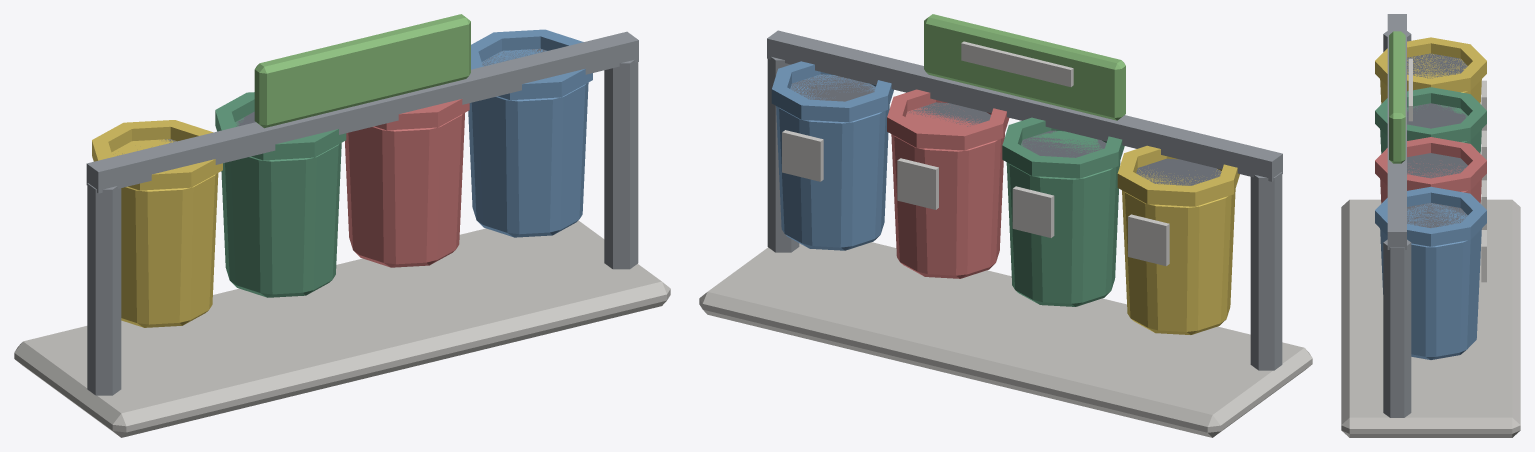
File: mobiliario__lixeira_seletiva.glb
The picture shows the model from 3 angles, left to right: view 1: azimuth 30°, elevation 25°; view 2: azimuth 150°, elevation 25°; view 3: azimuth 270°, elevation 25°; orthographic projection. The views are drawn at different scales.
Parts seen in each view (by area): view 1: mobiliario__lixeira_seletiva; view 2: mobiliario__lixeira_seletiva; view 3: mobiliario__lixeira_seletiva.
Part boxes in pixels (<box>): mobiliario__lixeira_seletiva: <box>14,14,670,437</box>; mobiliario__lixeira_seletiva: <box>699,14,1312,437</box>; mobiliario__lixeira_seletiva: <box>1341,14,1520,437</box>.
Size of the model in its own units: 0.95 by 0.505 by 0.32.
